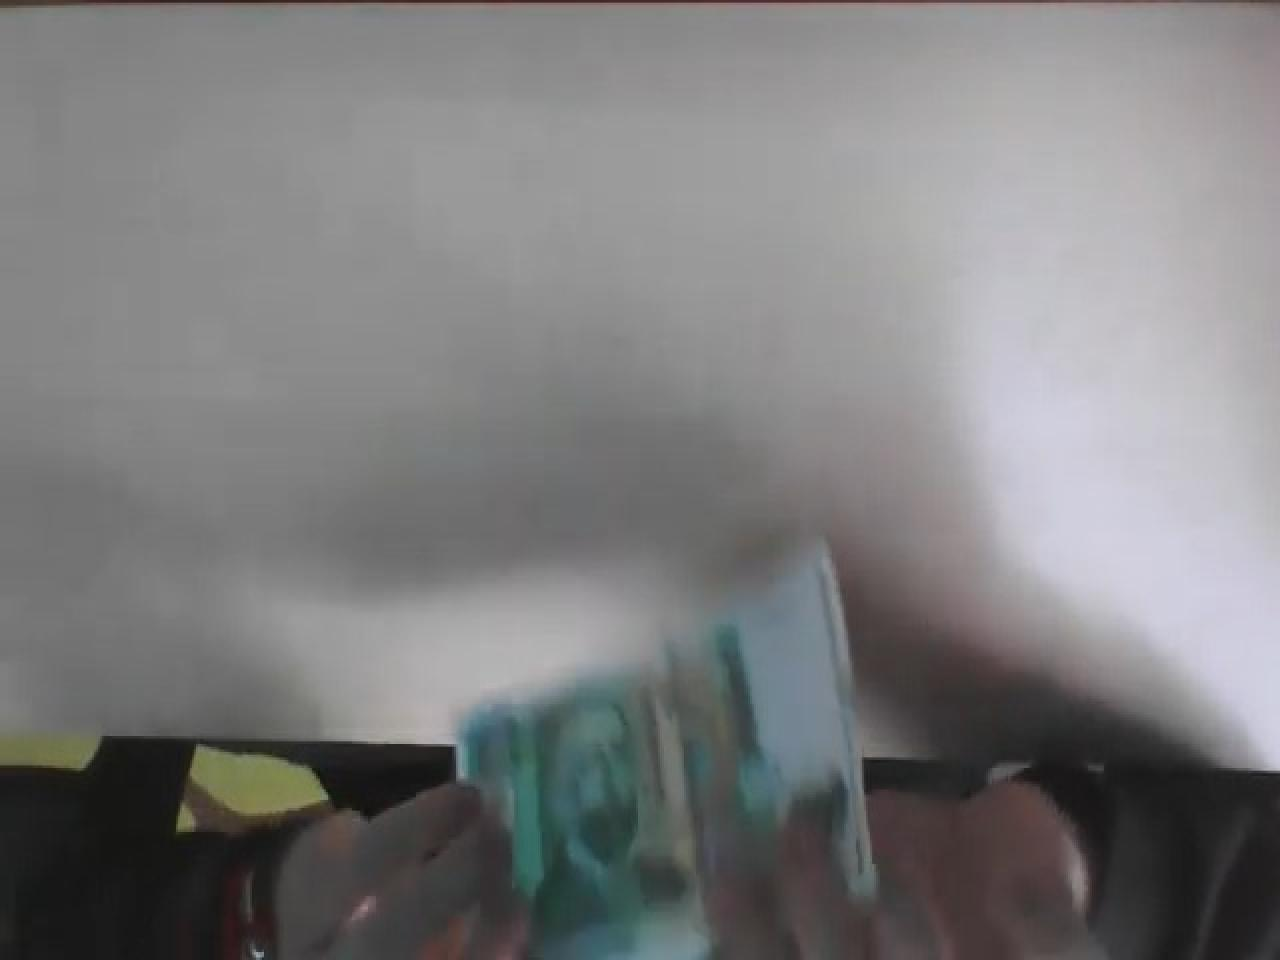10leva: (14, 560, 1280, 960)
